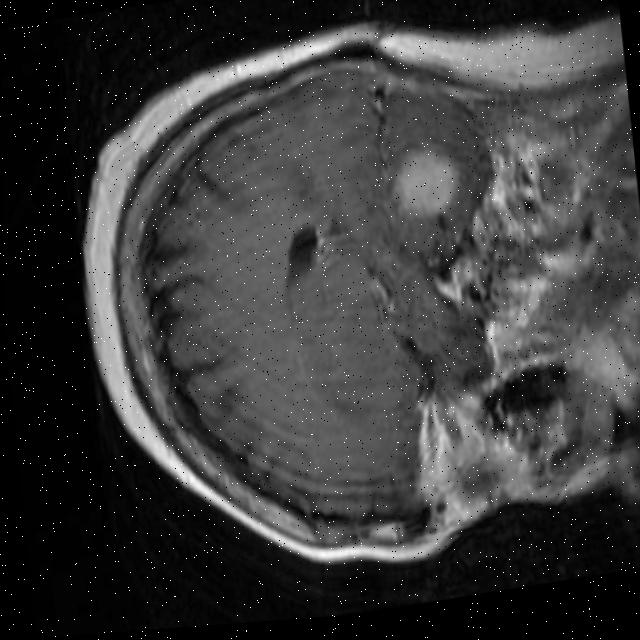Meningioma: (387, 138, 462, 225)
